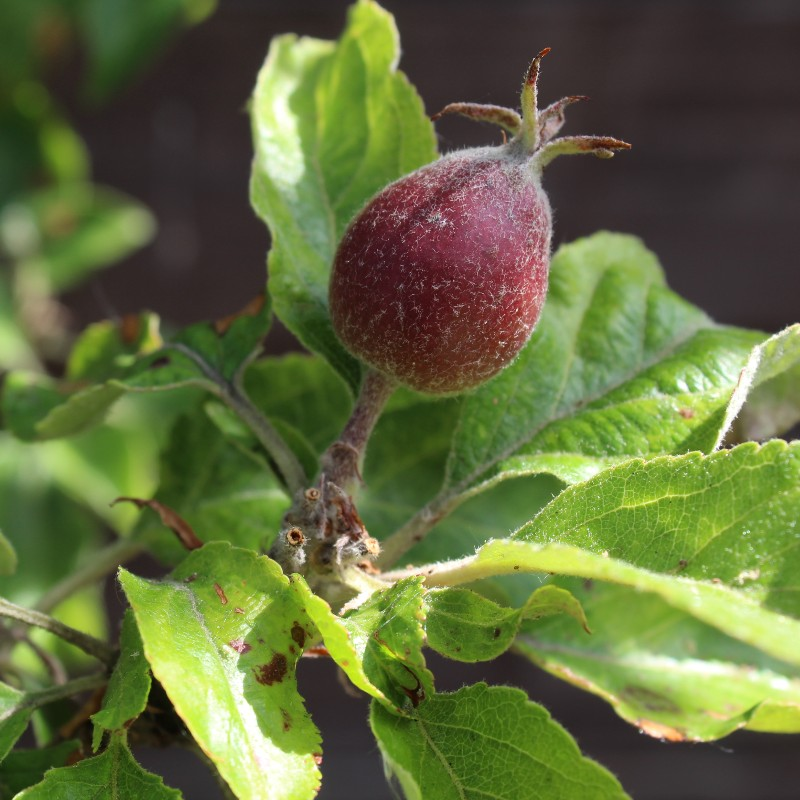apple/: (323, 71, 643, 422)
